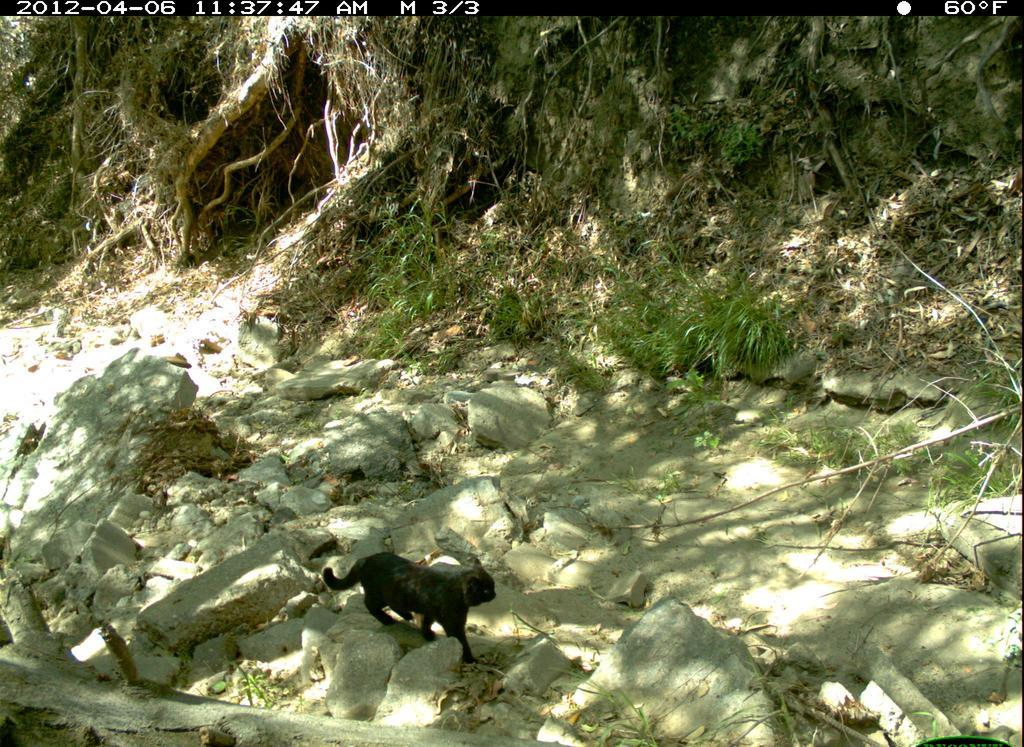cat: (310, 536, 505, 670)
